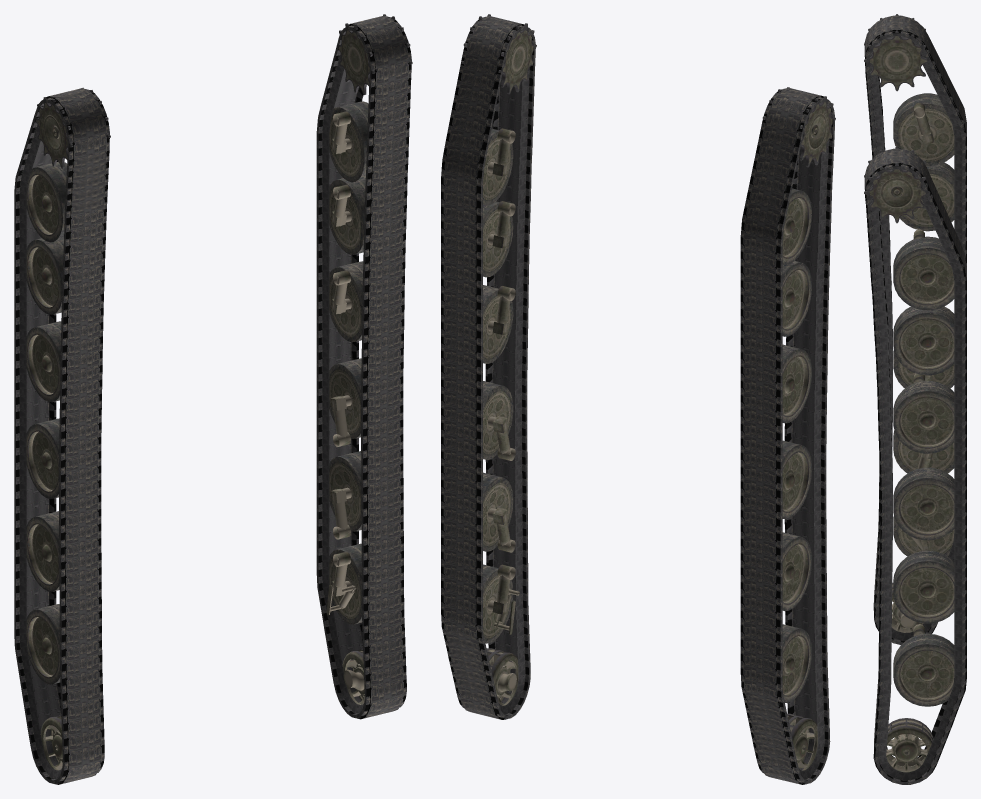
File: Chassis.glb
The picture shows the model from 3 angles, left to right: view 1: azimuth 30°, elevation 25°; view 2: azimuth 150°, elevation 25°; view 3: azimuth 270°, elevation 25°; orthographic projection. The views are drawn at different scales.
Parts seen in each view (by area): view 1: set_0_group_0, set_1_group_0, set_3_group_0, set_2_group_0; view 2: set_0_group_0, set_1_group_0, set_3_group_0, set_2_group_0; view 3: set_3_group_0, set_1_group_0, set_2_group_0, set_0_group_0.
Boxes of the visible parts, <box> form: set_0_group_0: <box>14,88,109,784</box>; set_1_group_0: <box>316,15,411,719</box>; set_3_group_0: <box>326,14,412,704</box>; set_2_group_0: <box>26,87,110,770</box>; set_0_group_0: <box>740,87,834,784</box>; set_1_group_0: <box>441,16,535,719</box>; set_3_group_0: <box>461,14,536,705</box>; set_2_group_0: <box>762,87,835,770</box>; set_3_group_0: <box>864,146,954,772</box>; set_1_group_0: <box>864,148,966,784</box>; set_2_group_0: <box>864,14,954,632</box>; set_0_group_0: <box>864,15,966,644</box>.
Bounding box in the file's own units: 3.23 × 6.26 × 0.9372.
4 materials, 4 textured.
